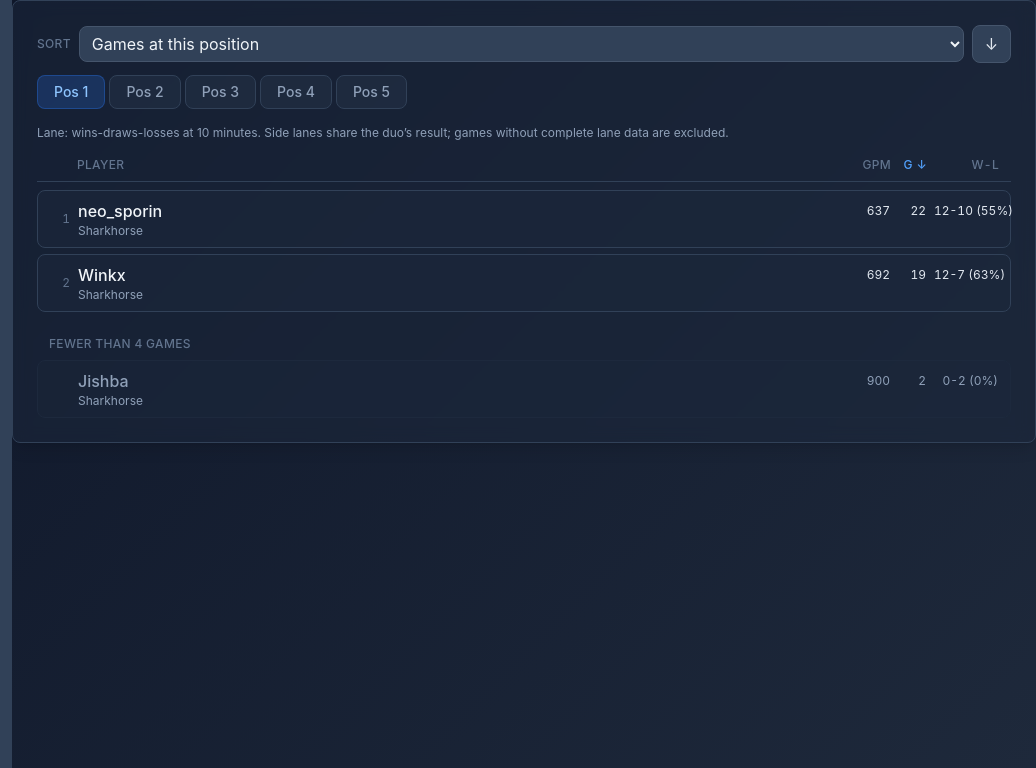
Test: DivisionPlayers › switches boards when a position is picked
Expected: the text "neo_sporin" is shown, [78, 201, 162, 221]
Click the button "Pos 5": (371, 92) [336, 75, 407, 109]
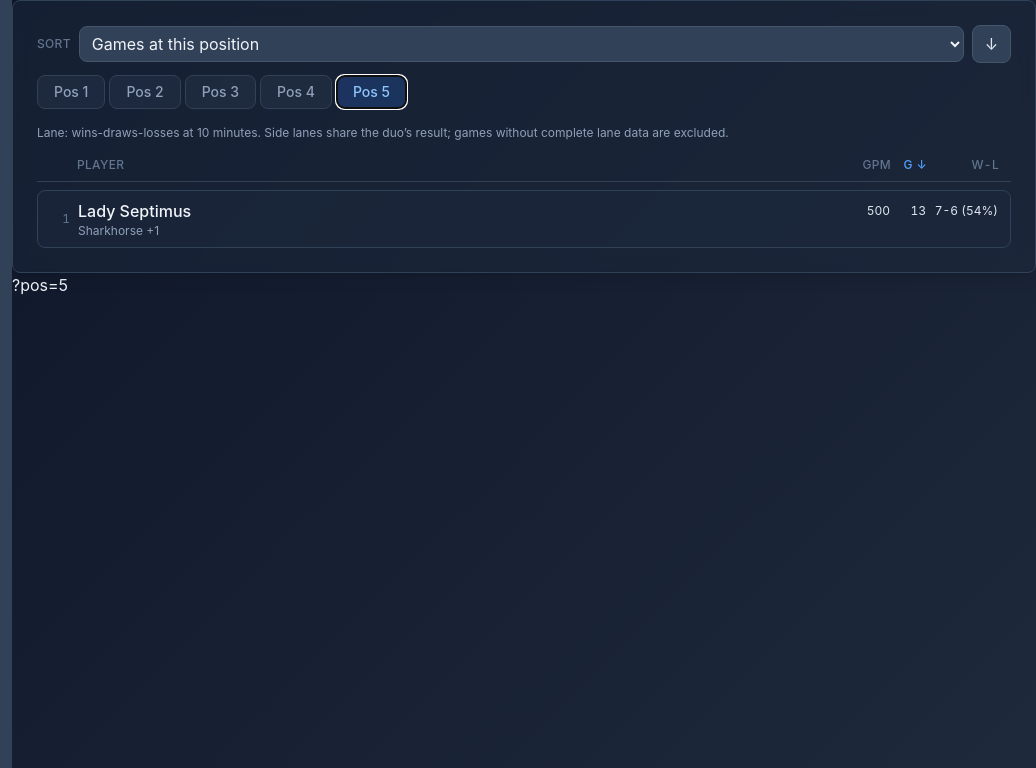
Expected: the text "Lady Septimus" is shown, [78, 201, 191, 221]
Expected: the button "neo_sporin" is gone
